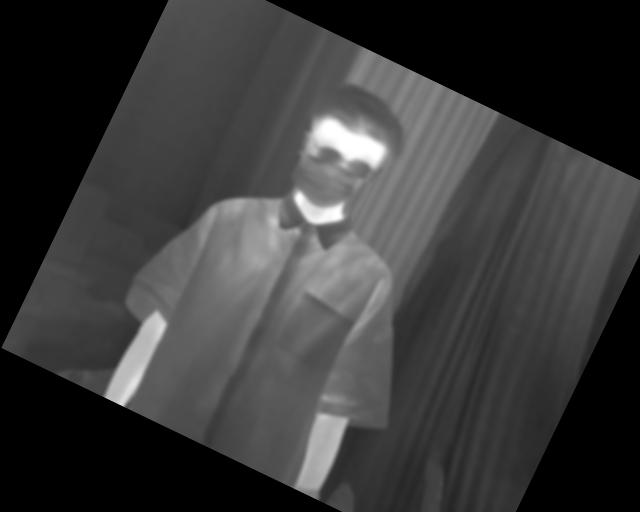face: (272, 69, 422, 231)
